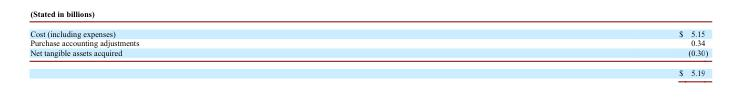table: (29, 28, 707, 77)
table column: (29, 28, 408, 77), (408, 28, 707, 77)
table row: (29, 47, 707, 62), (29, 62, 707, 77), (29, 28, 707, 38), (29, 38, 707, 47)
